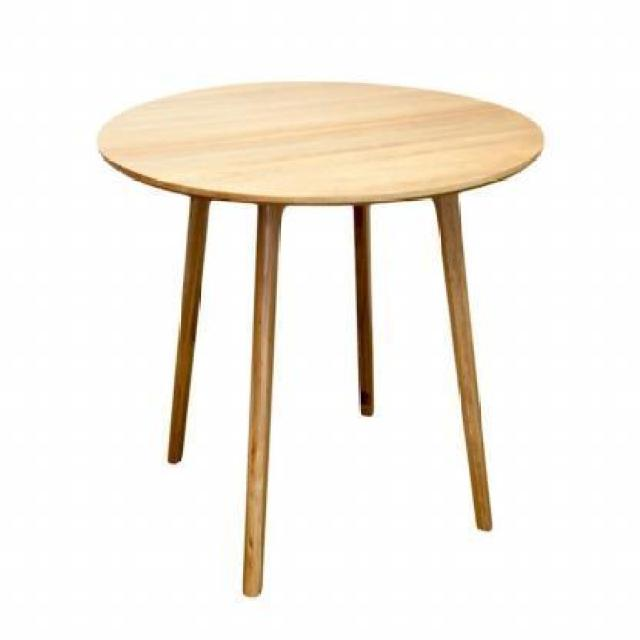tables: (96, 77, 544, 597)
